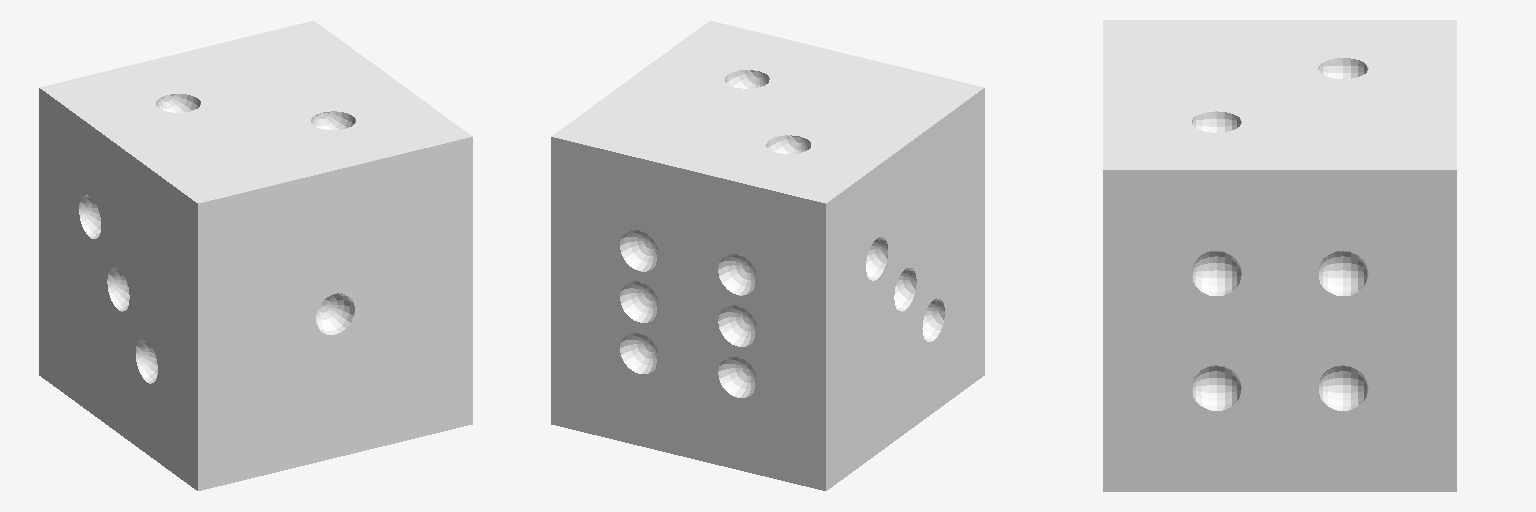
URDF robot description (dice):
<?xml version="1.0" encoding="utf-8"?>
<!-- This URDF was automatically created by SolidWorks to URDF Exporter! Originally created by [author] ([email redacted]) 
     Commit Version: 1.6.0-4-g7f85cfe  Build Version: 1.6.7995.38578
     For more information, please see http://wiki.ros.org/sw_urdf_exporter -->
<robot
  name="dice">
  <link
    name="base_link">
    <inertial>
      <origin
        xyz="-5.139E-06 -2.5695E-05 0.0070154"
        rpy="0 0 0" />
      <mass
        value="0.003213" />
      <inertia
        ixx="1.0478E-07"
        ixy="-3.073E-11"
        ixz="-2.5456E-13"
        iyy="1.0478E-07"
        iyz="2.9881E-11"
        izz="1.0474E-07" />
    </inertial>
    <visual>
      <origin
        xyz="0 0 0"
        rpy="0 0 0" />
      <geometry>
        <mesh
          filename="package://dice/meshes/base_link.STL" />
      </geometry>
      <material
        name="">
        <color
          rgba="1 1 1 1" />
      </material>
    </visual>
    <collision>
      <origin
        xyz="0 0 0"
        rpy="0 0 0" />
      <geometry>
        <mesh
          filename="package://dice/meshes/base_link.STL" />
      </geometry>
    </collision>
  </link>
</robot>

--- Facts derived from the render (not from the file) ---
The picture shows the robot from 3 angles, left to right: view 1: azimuth 30°, elevation 25°; view 2: azimuth 150°, elevation 25°; view 3: azimuth 270°, elevation 25°; orthographic projection.
Robot: dice — 1 links, 0 joints (none); root link base_link; default pose: every joint at zero.
Links seen in each view (by area): view 1: base_link; view 2: base_link; view 3: base_link.
Boxes of the visible links, box(x1,y1,x2,y2) form: base_link: box(39, 21, 472, 490); base_link: box(551, 21, 984, 490); base_link: box(1103, 20, 1456, 491).
Bounding box of the posed robot: 0.014 × 0.014 × 0.014 m (x, y, z).
1 mesh visuals loaded from 1 distinct referenced files (1 binary STL).
